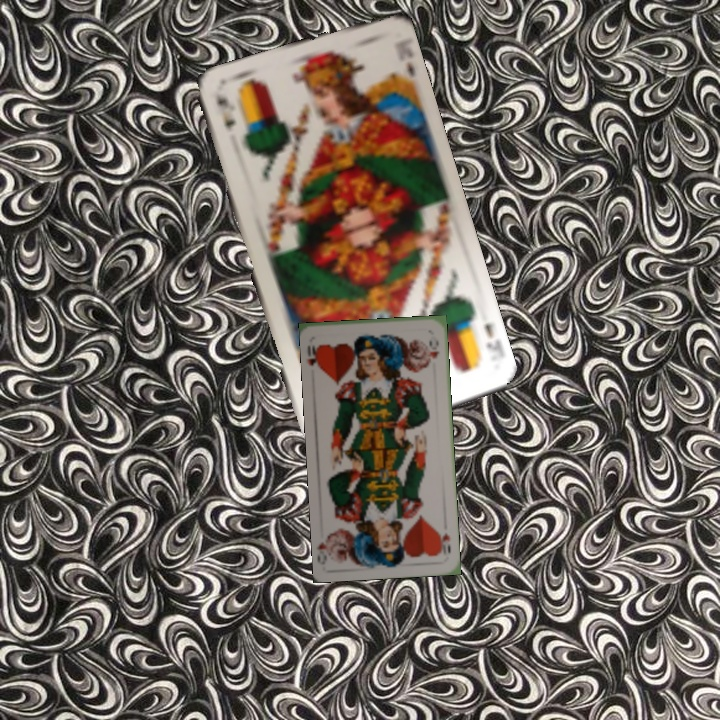EK: (213, 90, 238, 134), (481, 319, 505, 360)
HO: (303, 341, 324, 372), (434, 527, 453, 558)
